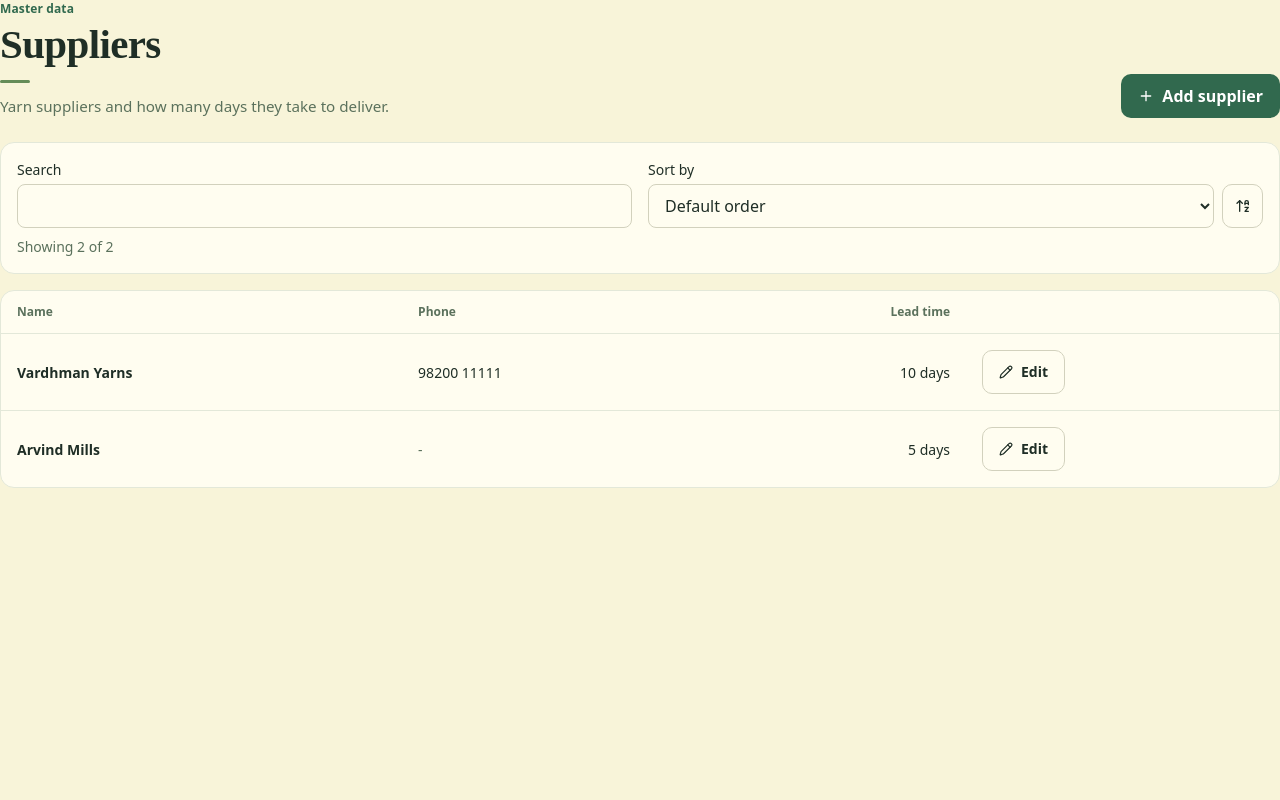
Test: Suppliers (a typical master list) › asks for the name before sending anything
What coordinates should you click on to do the following:
click the button "Add supplier"
I would click on:
 (1201, 96)
Its box is [1121, 74, 1279, 118].
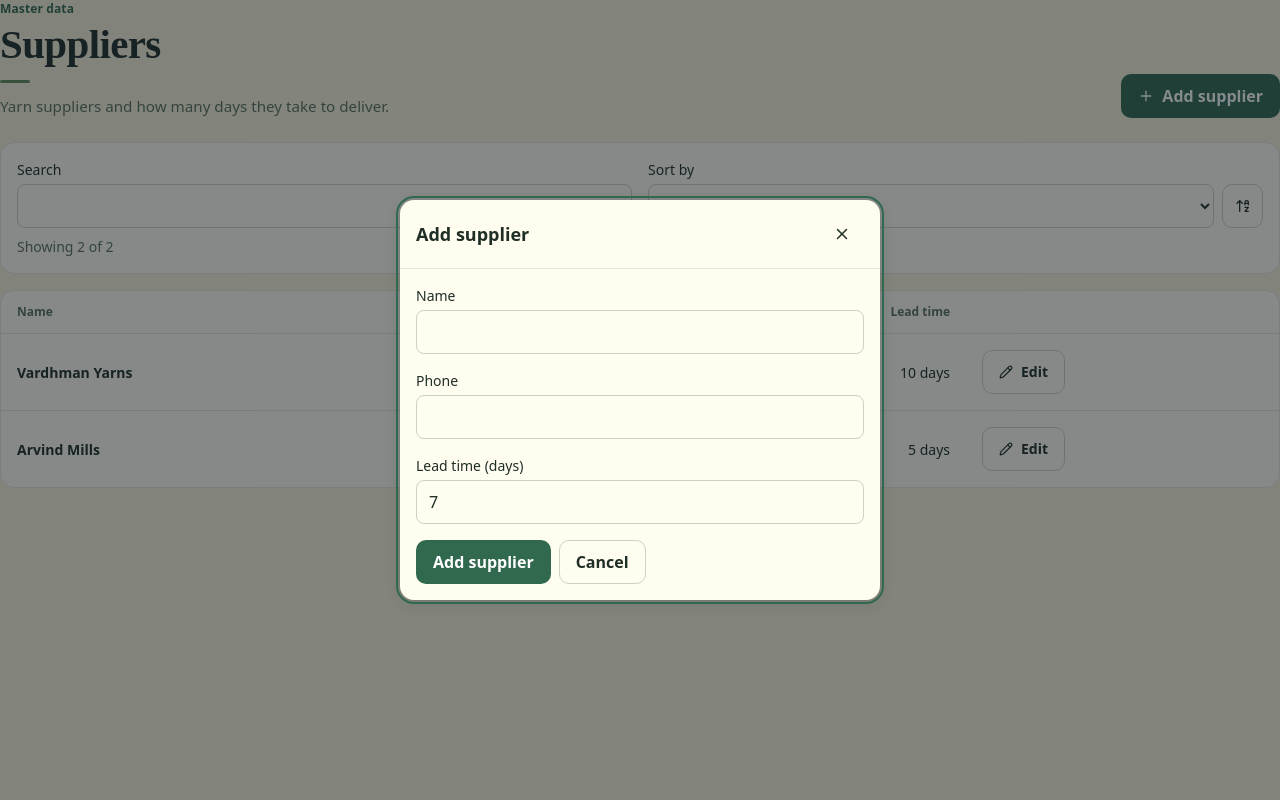
What coordinates should you click on to do the following:
click the button "Add supplier"
I would click on:
 (483, 562)
Its box is [416, 540, 551, 584].
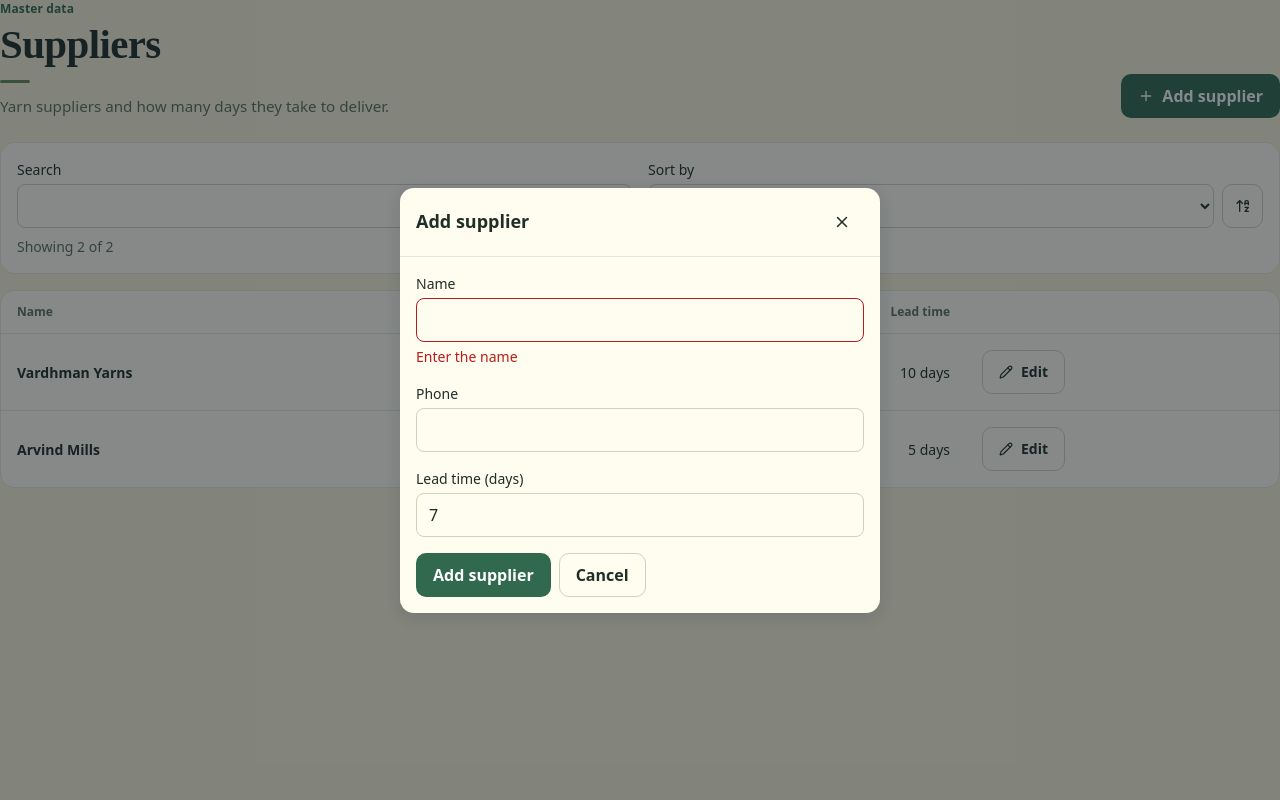
Expected: the text "Enter the name" is shown, [416, 346, 518, 366]
